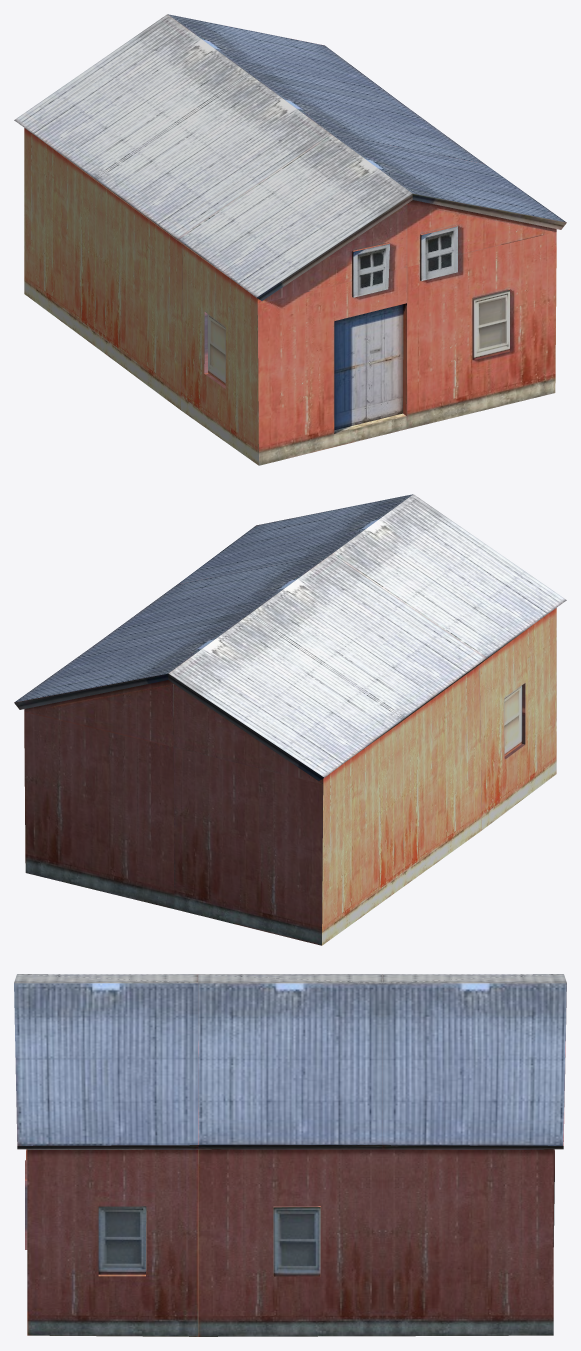
Rendered from barn01_elements_0.glb.
The picture shows the model from 3 angles, top to bottom: view 1: azimuth 30°, elevation 25°; view 2: azimuth 150°, elevation 25°; view 3: azimuth 270°, elevation 25°; orthographic projection. The views are drawn at different scales.
Visible parts, largest first — view 1: barn01_elements_0.010; view 2: barn01_elements_0.010; view 3: barn01_elements_0.010.
Part boxes in pixels (x1,y1,x2,y2): barn01_elements_0.010: (14, 14, 566, 465); barn01_elements_0.010: (14, 494, 566, 945); barn01_elements_0.010: (14, 974, 566, 1336).
Bounding box in the file's own units: 7.45 × 5.5 × 10.19.
Materials: 1 (1 with a texture image).
